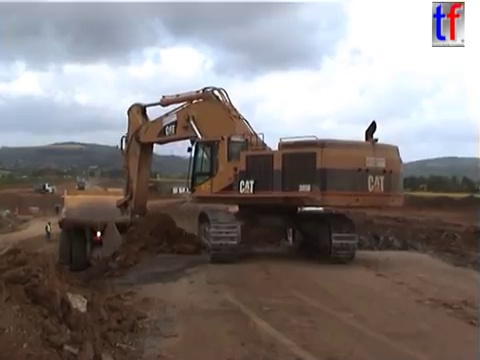excavator: (99, 84, 406, 268)
truck: (55, 186, 147, 272), (126, 178, 157, 200), (30, 181, 57, 196)
worker: (43, 220, 53, 243)
